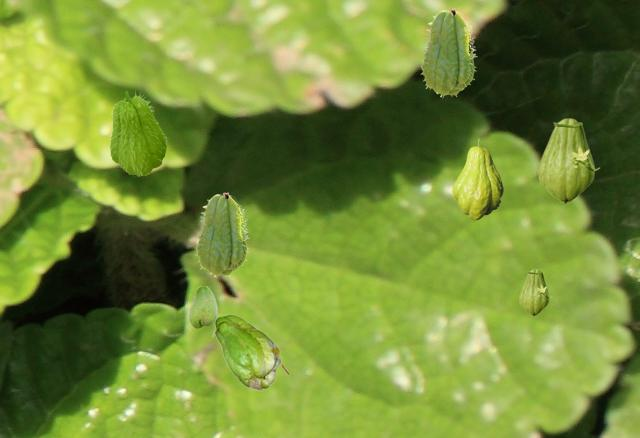sayote: (211, 314, 287, 390), (538, 118, 599, 203), (108, 90, 167, 175), (420, 8, 476, 97), (195, 192, 248, 277), (452, 138, 502, 219), (519, 269, 551, 315), (188, 286, 216, 327)
